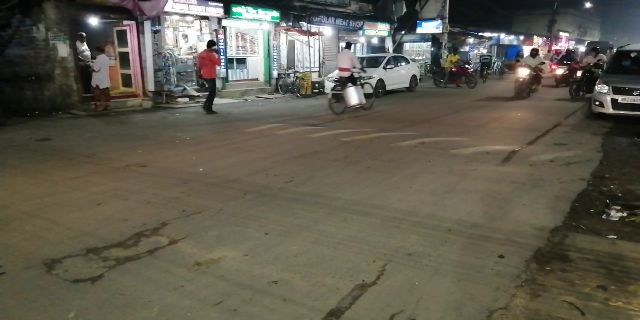Car: (328, 54, 420, 100)
Cycle: (327, 41, 376, 115)
Motorbike: (513, 45, 545, 99)
